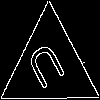U: (24, 41, 72, 99)
